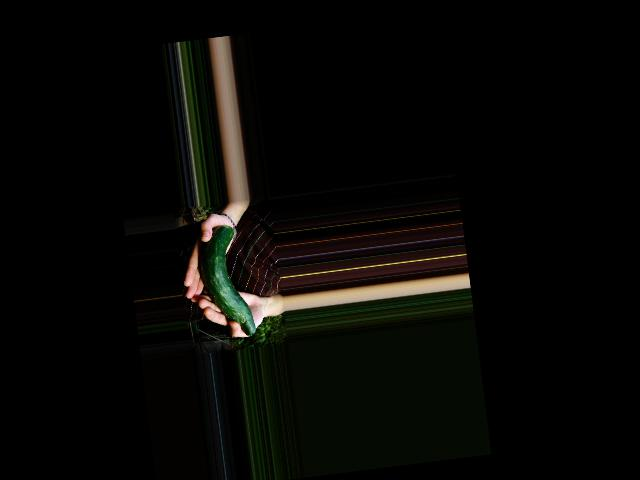cucumber: (195, 222, 256, 340)
